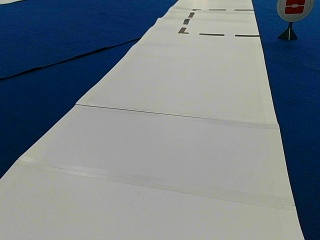company: (276, 0, 312, 21)
